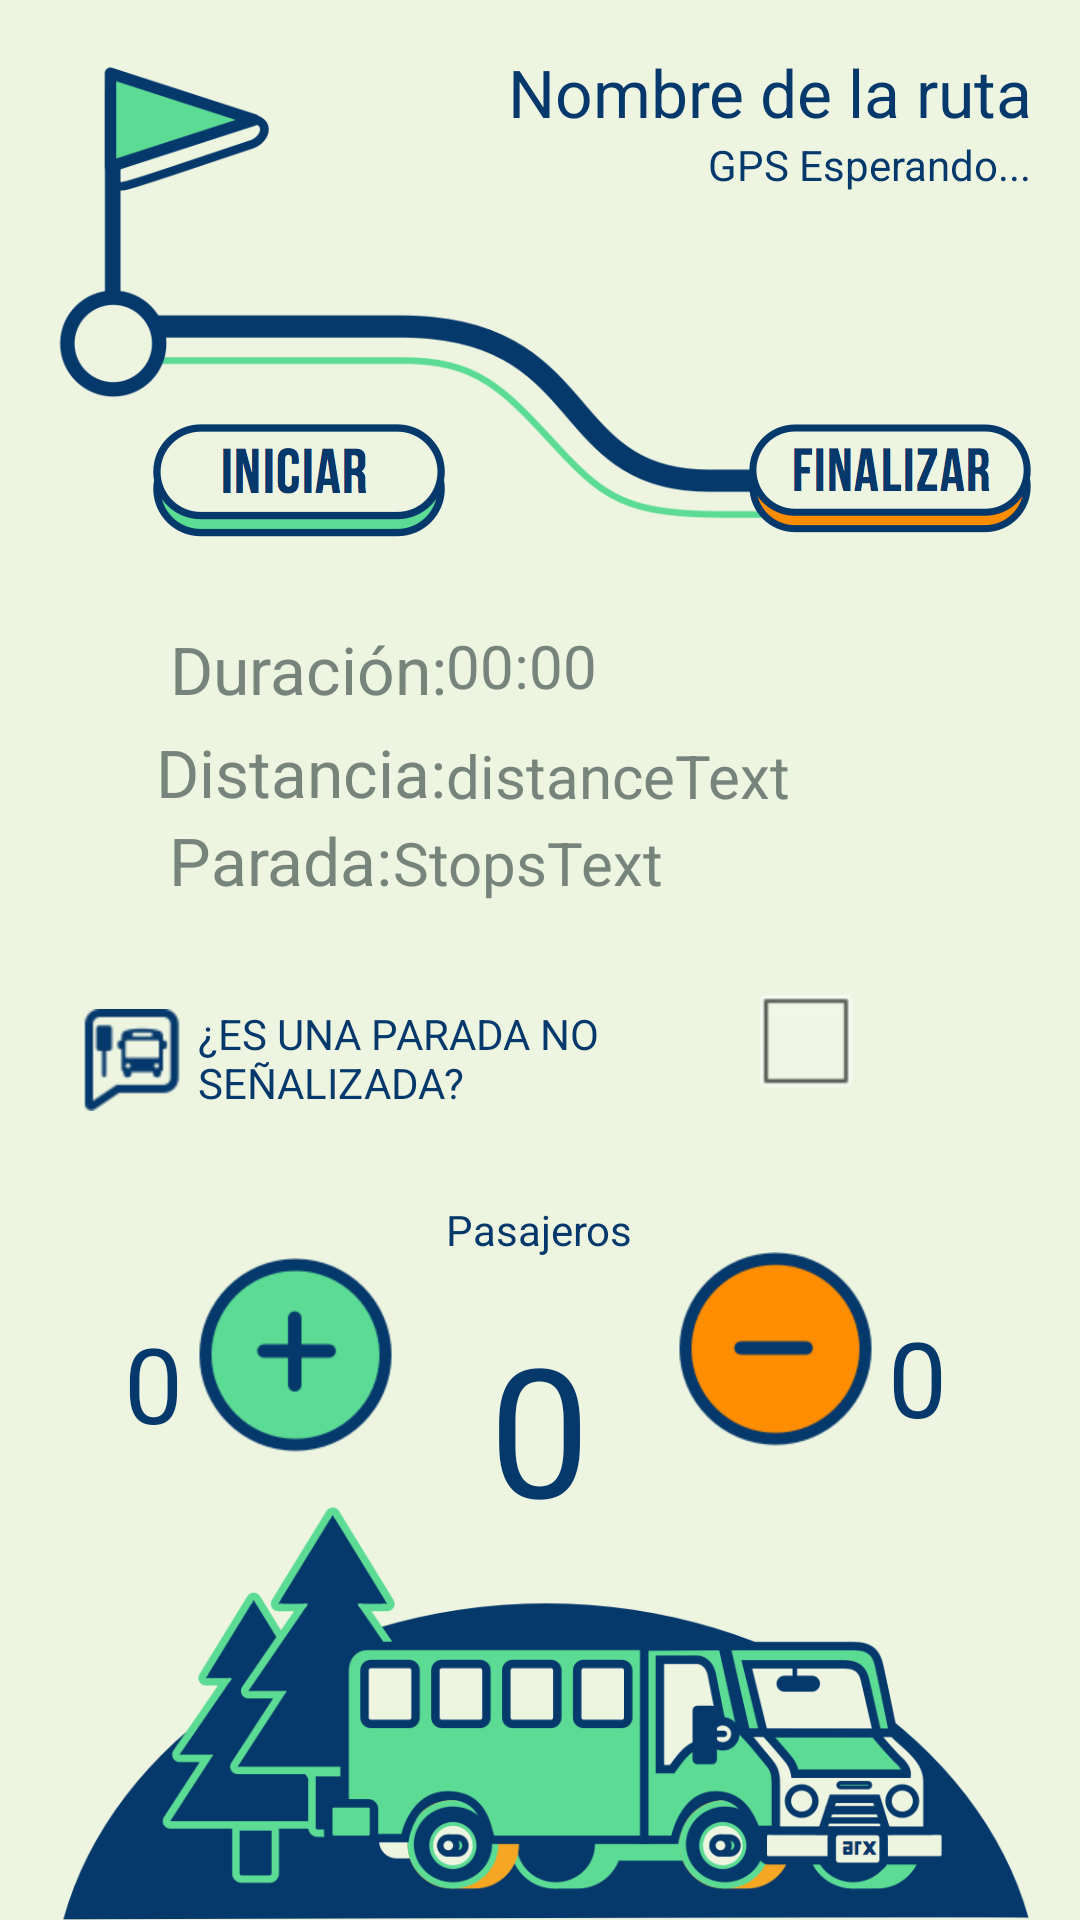

Screen size 1080 × 1920. Icon name, then its box in pixels as (x1, y1, x2, y2):
alight: (679, 1252, 872, 1446)
board: (199, 1258, 392, 1452)
transit stop: (84, 1009, 180, 1111)
